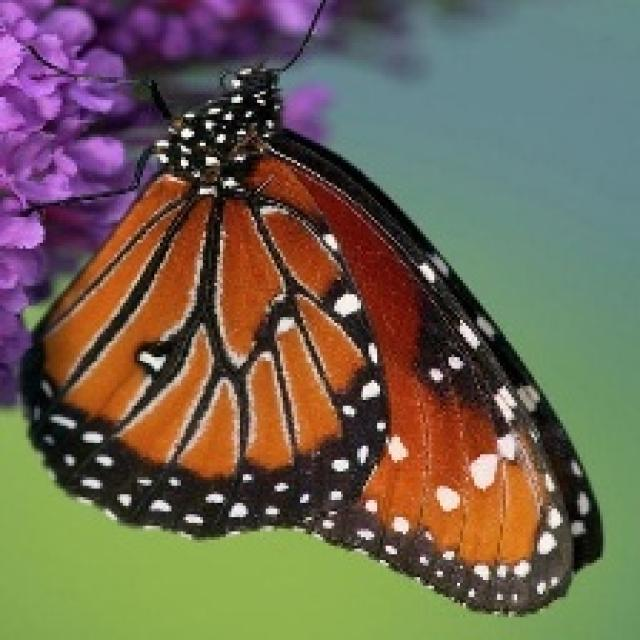butterfly: (14, 0, 603, 617)
